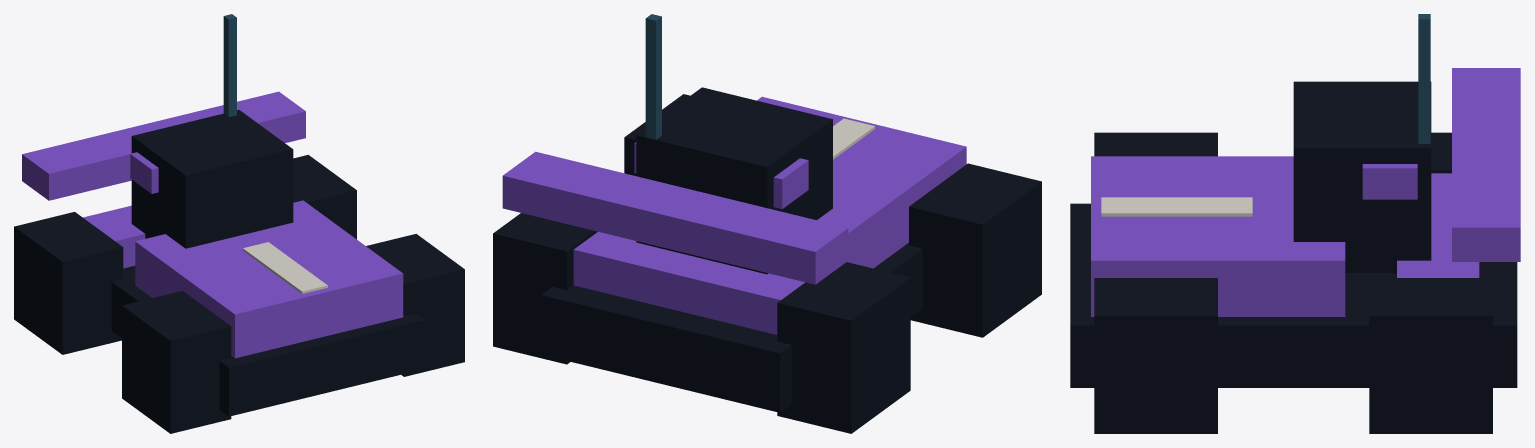
The model's file is kart-fast-3.glb.
The picture shows the model from 3 angles, left to right: view 1: azimuth 30°, elevation 25°; view 2: azimuth 150°, elevation 25°; view 3: azimuth 270°, elevation 25°; orthographic projection. The views are drawn at different scales.
Parts seen in each view (by area): view 1: Kart; view 2: Kart; view 3: Kart.
Boxes of the visible parts, x1=… form: Kart: x1=14, y1=14, x2=464, y2=433; Kart: x1=493, y1=14, x2=1041, y2=433; Kart: x1=1070, y1=14, x2=1520, y2=433.
Size of the model in its own units: 0.63 by 0.565 by 0.655.
